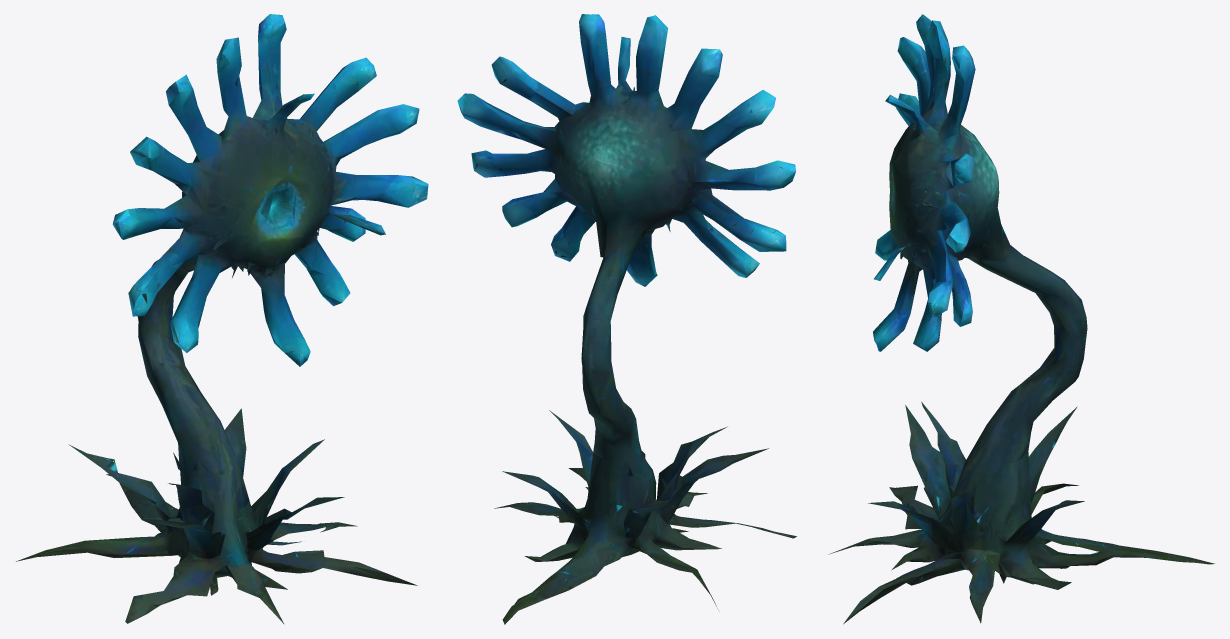
The model's file is monster_11.glb.
The picture shows the model from 3 angles, left to right: view 1: azimuth 30°, elevation 25°; view 2: azimuth 150°, elevation 25°; view 3: azimuth 270°, elevation 25°; orthographic projection. The views are drawn at different scales.
Visible parts, largest first — view 1: Cryo_Spore_0709094134_texture; view 2: Cryo_Spore_0709094134_texture; view 3: Cryo_Spore_0709094134_texture.
Boxes of the visible parts, box(x1,y1,x2,y2) form: Cryo_Spore_0709094134_texture: box(16, 14, 428, 624); Cryo_Spore_0709094134_texture: box(457, 14, 796, 624); Cryo_Spore_0709094134_texture: box(829, 14, 1214, 624).
Bounding box in the file's own units: 1.3 × 2 × 1.3.
Materials: 1 (1 with a texture image).
